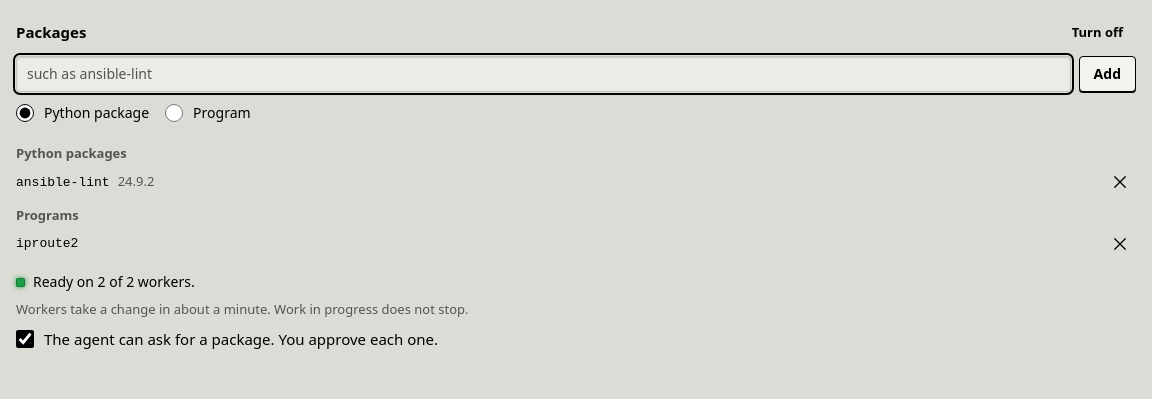
Test: a change of the packages › adds a program from the add row, empties the field, and keeps the focus there
Type "  nodejs>=22 " into the field with placeholder "such as ansible-lint" at (543, 74), box [16,56,1071,92]
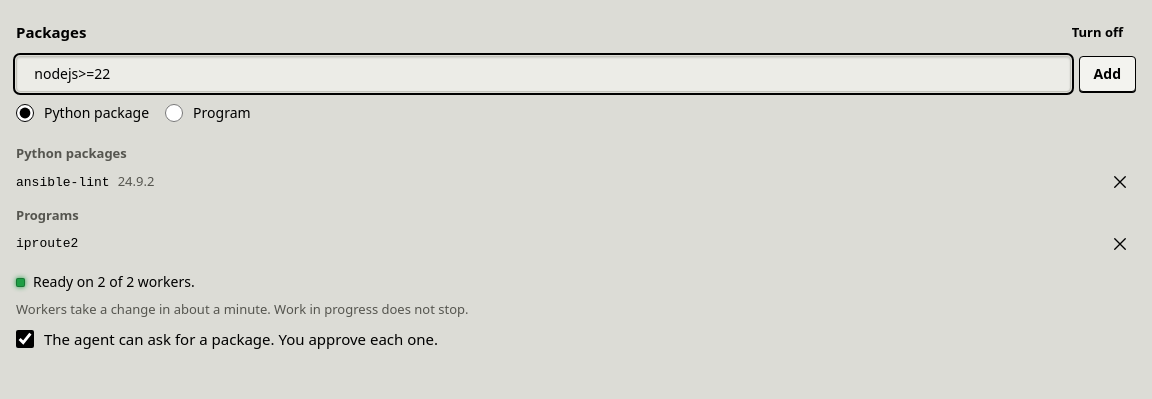
Click the radio button labelled "Program" at (174, 113), box [165,104,183,122]
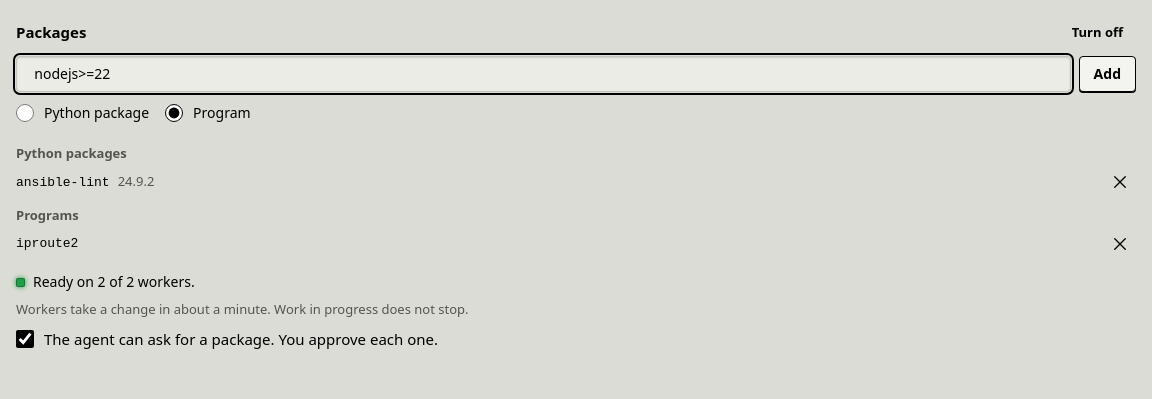
Submit the form, box [16,56,1136,136]
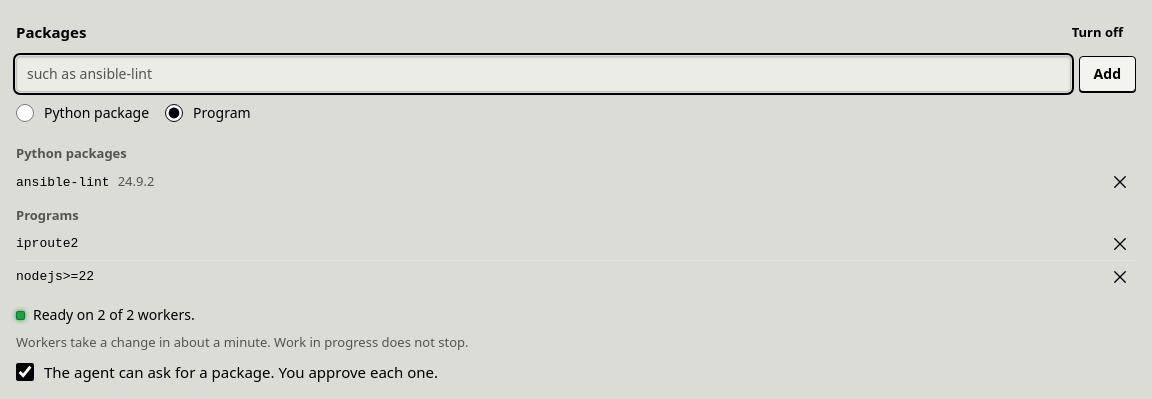
Expected: the field with placeholder "such as ansible-lint" is empty, [16,56,1071,92]
Expected: the element showing "Programs iproute2 nodejs>=22" is shown, [16,206,1136,293]
